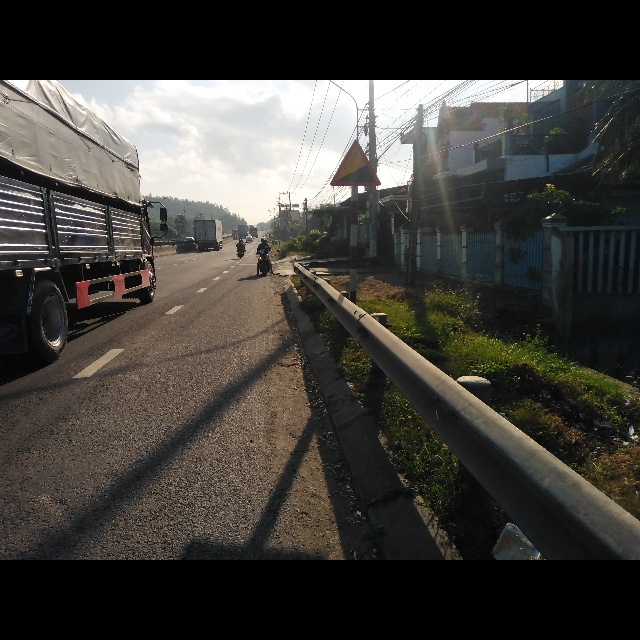Dốc lên nguy hiểm: (328, 139, 381, 189)
